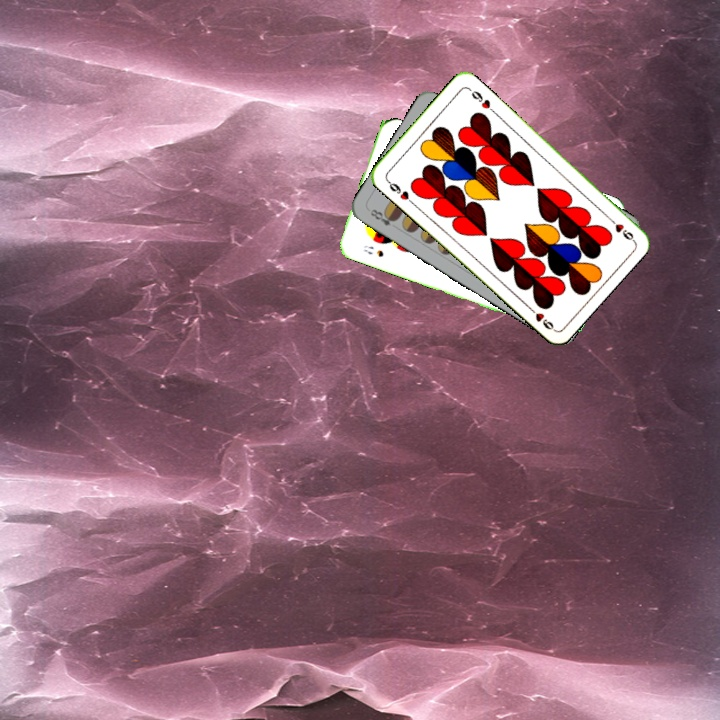E8: (366, 205, 400, 229)
H9: (382, 175, 416, 206), (603, 212, 636, 243)
S8: (359, 241, 386, 260)
